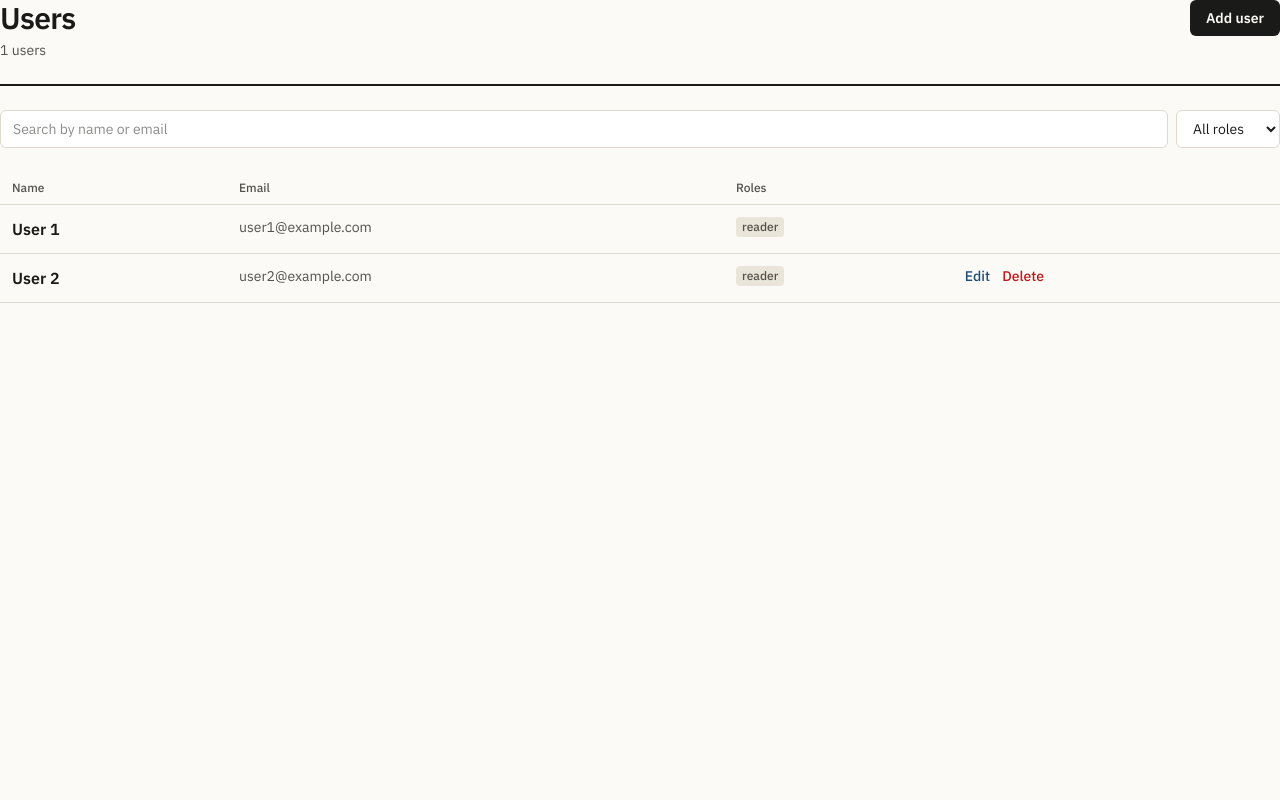
Test case: UsersPage › does not delete when the dialog is cancelled
Click the button with test id "delete-user".
click(1023, 276)  # box x1=1002 y1=266 x2=1044 y2=286
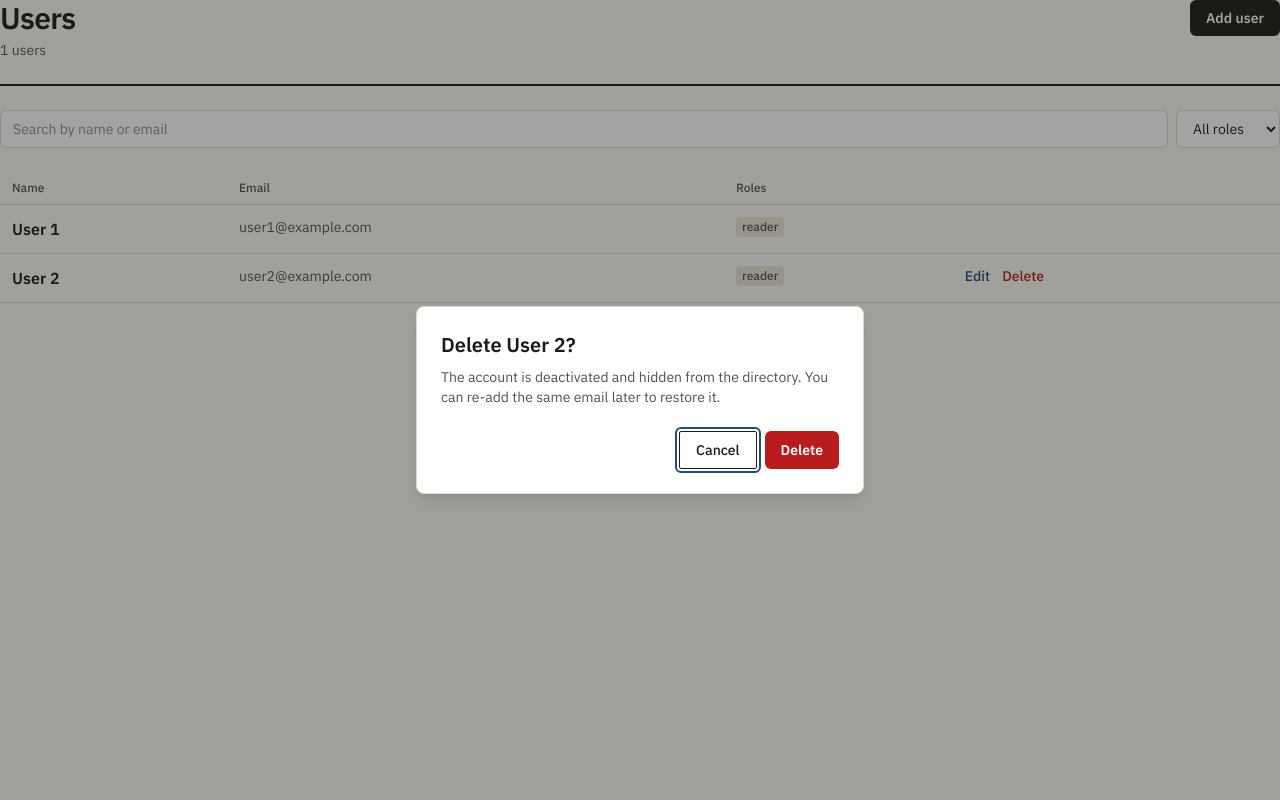
Result: the button with test id "confirm-dialog-cancel" is shown
Click the button with test id "confirm-dialog-cancel".
click(718, 450)  # box x1=679 y1=431 x2=757 y2=469
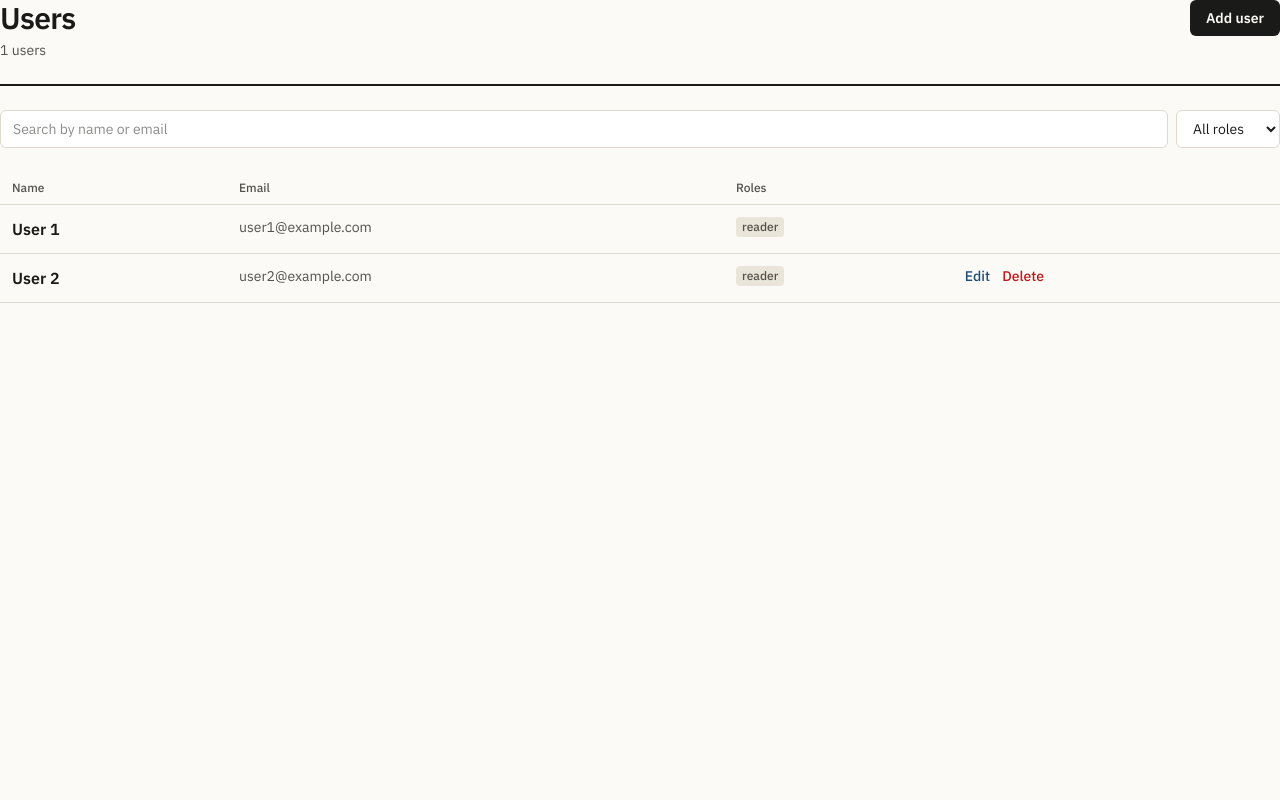
Result: the button with test id "confirm-dialog-confirm" is gone
